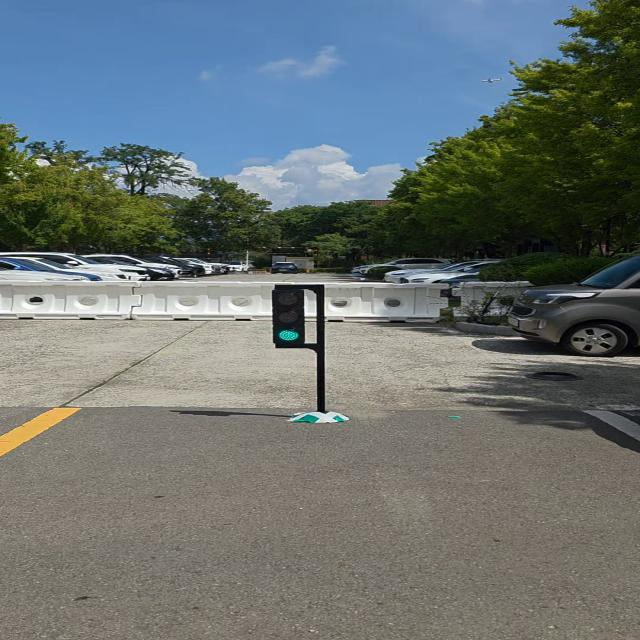green: (273, 286, 308, 347)
